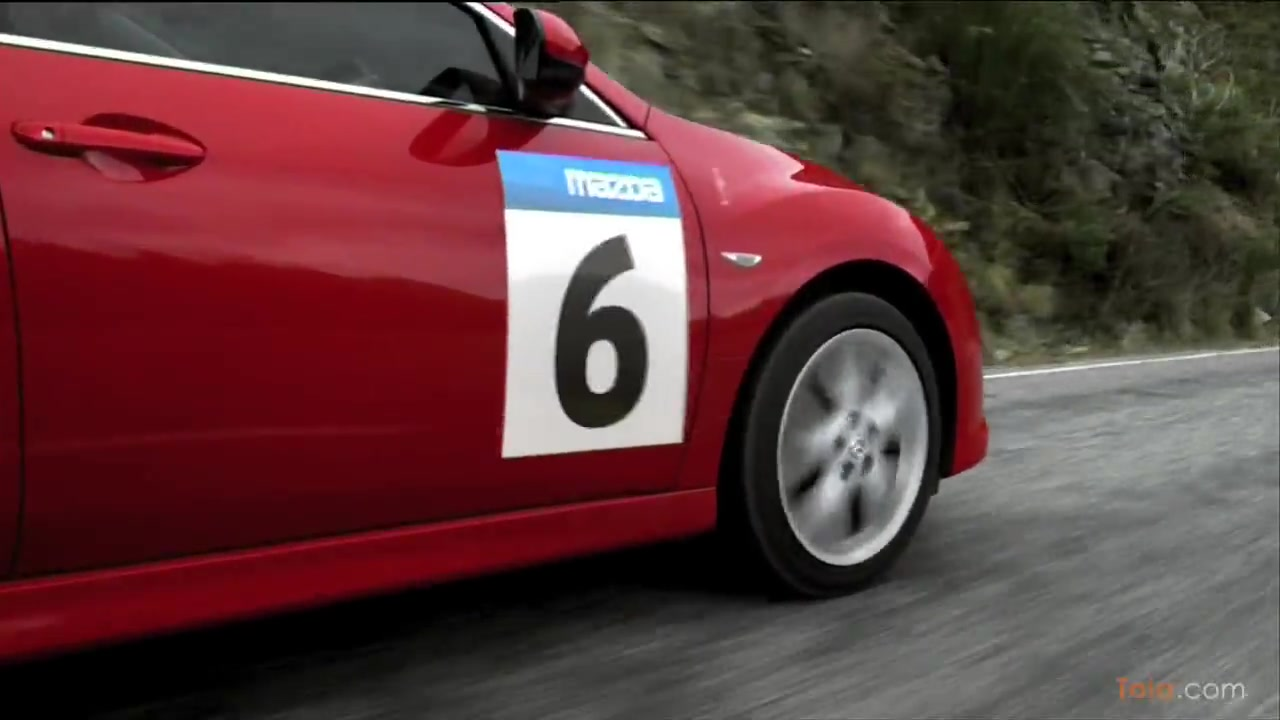car: (3, 1, 992, 670)
